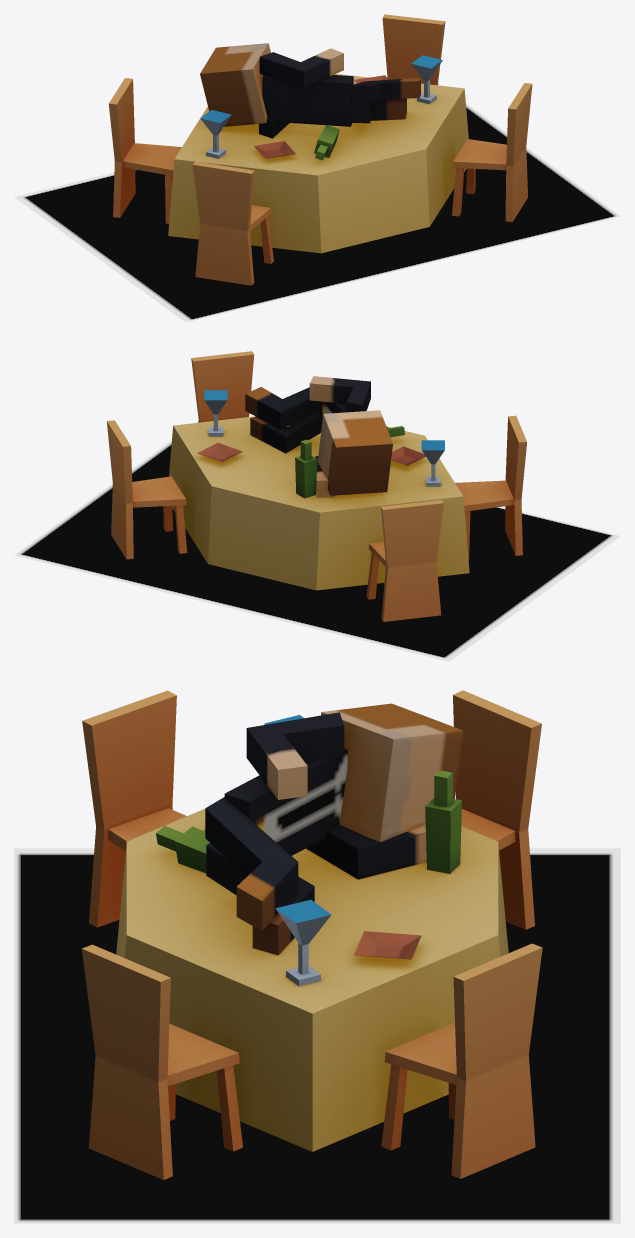
Rendered from 3x2_table_v2.FBX.
3 renders of one model, top to bottom at view 1: azimuth 30°, elevation 25°; view 2: azimuth 150°, elevation 25°; view 3: azimuth 270°, elevation 25°, orthographic. The views are drawn at different scales.
Visible parts, largest first — view 1: 3x2_table_v2, 3x2_table_v2_soft_shadow, 3x2_table_v2_guy; view 2: 3x2_table_v2, 3x2_table_v2_soft_shadow, 3x2_table_v2_guy; view 3: 3x2_table_v2, 3x2_table_v2_soft_shadow, 3x2_table_v2_guy.
Boxes of the visible parts, x1,y1,x2,y2 form: 3x2_table_v2: (108,14,532,285); 3x2_table_v2_soft_shadow: (14,103,620,322); 3x2_table_v2_guy: (200,43,420,138); 3x2_table_v2: (106,351,526,621); 3x2_table_v2_soft_shadow: (14,440,620,661); 3x2_table_v2_guy: (245,376,392,497); 3x2_table_v2: (81,690,542,1179); 3x2_table_v2_soft_shadow: (14,848,620,1223); 3x2_table_v2_guy: (205,703,463,955).
Size of the model in its own units: 3803 by 1330 by 2598.
